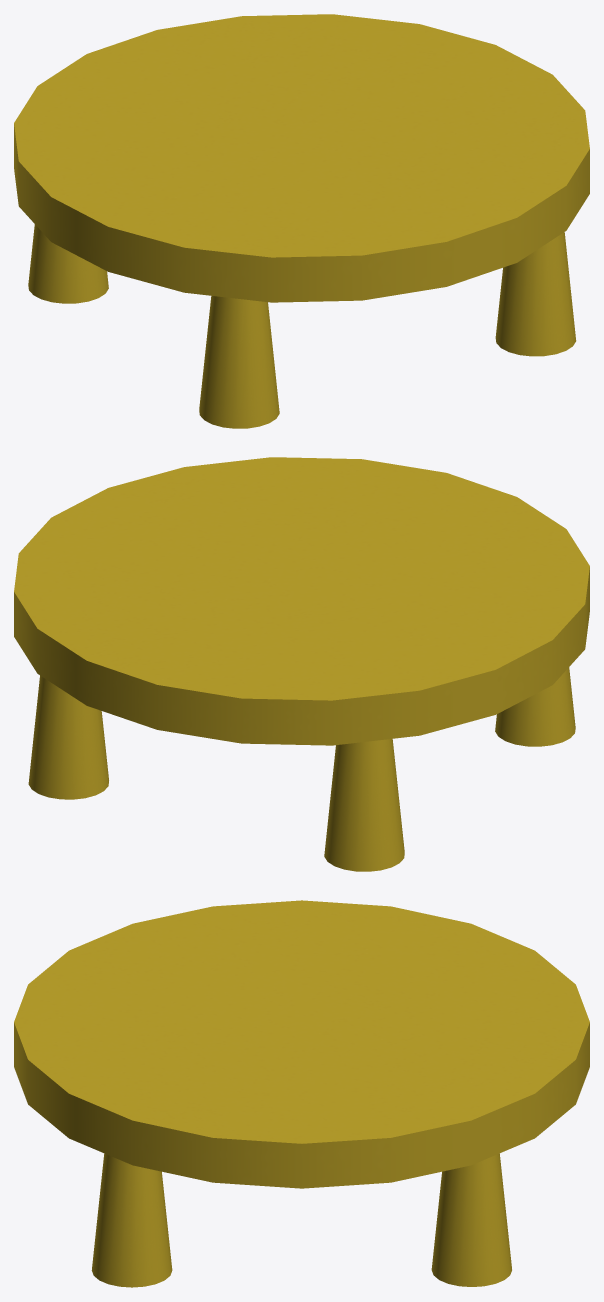
The model's file is Table_Yellow.glb.
The picture shows the model from 3 angles, top to bottom: view 1: azimuth 30°, elevation 25°; view 2: azimuth 150°, elevation 25°; view 3: azimuth 270°, elevation 25°; orthographic projection.
Visible parts, largest first — view 1: tableHIGH; view 2: tableHIGH; view 3: tableHIGH.
Part boxes in pixels (bbox=[...]): tableHIGH: bbox=[14, 14, 589, 428]; tableHIGH: bbox=[14, 457, 589, 871]; tableHIGH: bbox=[14, 900, 589, 1287].
Size of the model in its own units: 6.78 by 2.29 by 6.78.
1 material, 1 textured.
